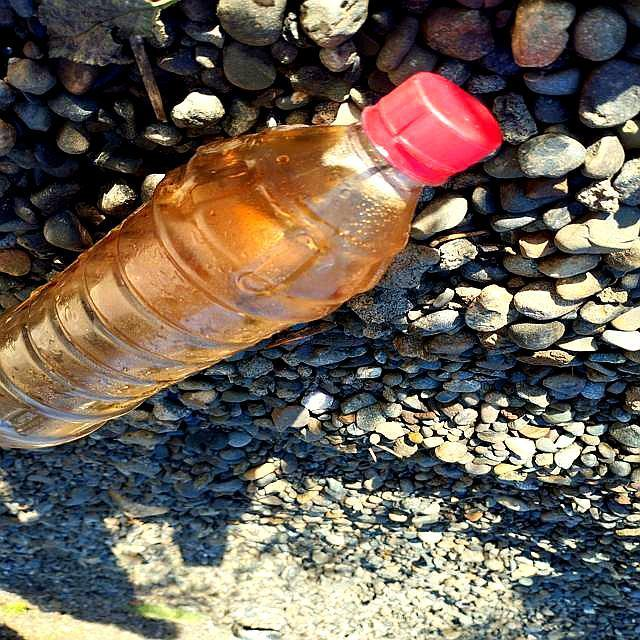Non-biodegradable: (1, 75, 503, 449)
